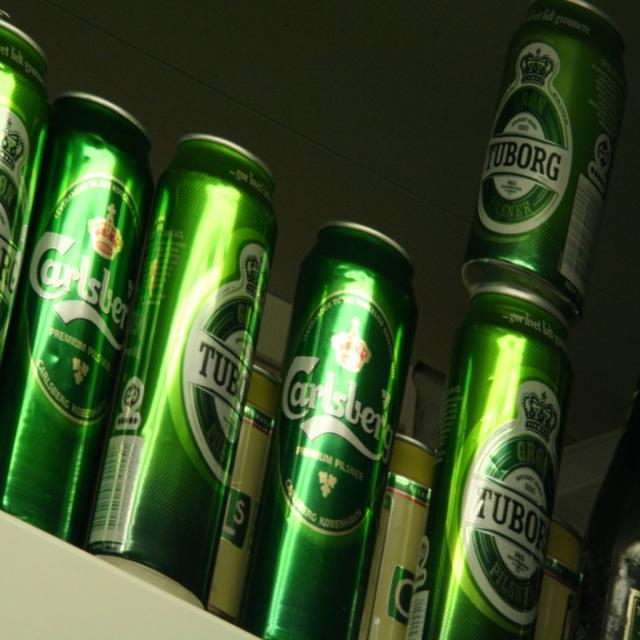carlsberg: (273, 289, 403, 538), (23, 174, 145, 432)
